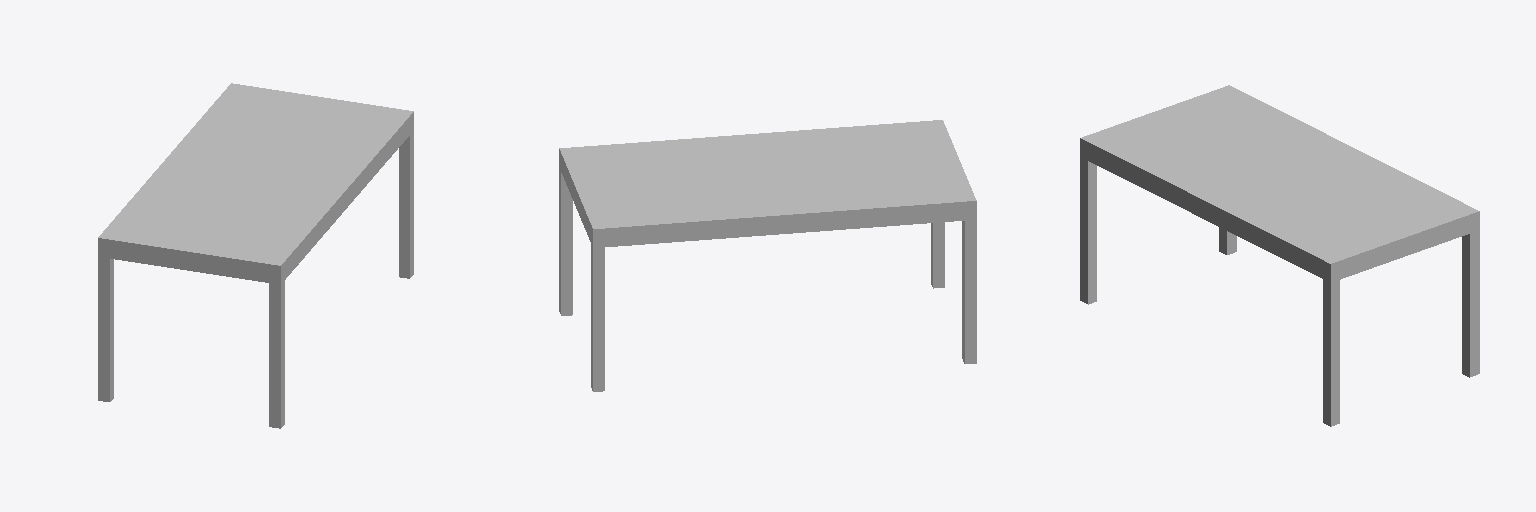
Rendered from uploads_files_2340931_woodentable.obj.
The picture shows the model from 3 angles: view 1: azimuth 30°, elevation 25°; view 2: azimuth 150°, elevation 25°; view 3: azimuth 270°, elevation 25°; orthographic projection.
Visible parts, largest first — view 1: wooden_table_Cube.001, wooden_table.001_Cube.002; view 2: wooden_table_Cube.001, wooden_table.001_Cube.002; view 3: wooden_table_Cube.001, wooden_table.001_Cube.002.
Part boxes in pixels (x1,y1,x2,y2): wooden_table_Cube.001: (98,83,413,274); wooden_table.001_Cube.002: (98,122,413,428); wooden_table_Cube.001: (559,120,976,238); wooden_table.001_Cube.002: (559,158,976,391); wooden_table_Cube.001: (1080,85,1479,272); wooden_table.001_Cube.002: (1080,148,1479,426).
Bounding box in the file's own units: 21.76 × 9.23 × 20.53.